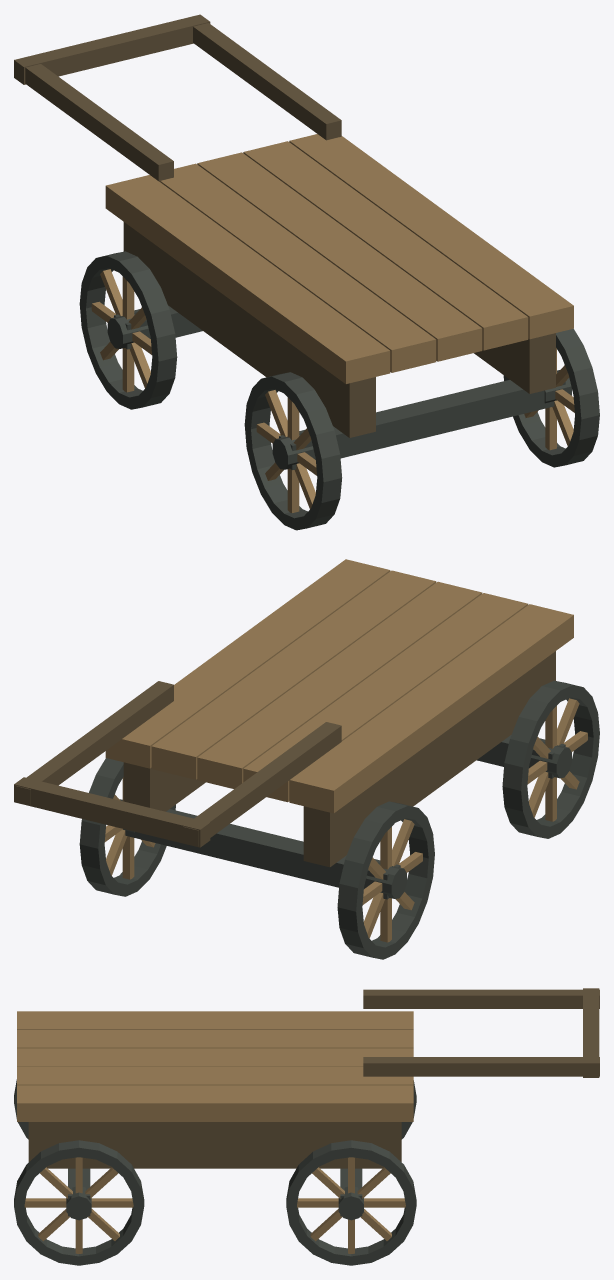
Rendered from package-cart.glb.
3 views of the same model, one above another, from view 1: azimuth 30°, elevation 25°; view 2: azimuth 150°, elevation 25°; view 3: azimuth 270°, elevation 25° (orthographic). The views are drawn at different scales.
Parts seen in each view (by area): view 1: package-cart-body-timber.001, package-cart-body-timber-dark.001, package-wheel-iron.004, package-wheel-iron.005, package-cart-body-iron.001, package-wheel-iron.007, package-wheel-timber.004, package-wheel-timber.005, package-wheel-timber.007; view 2: package-cart-body-timber.001, package-cart-body-timber-dark.001, package-wheel-iron.004, package-wheel-iron.005, package-cart-body-iron.001, package-wheel-iron.006, package-wheel-timber.005, package-wheel-timber.004, package-wheel-timber.006; view 3: package-cart-body-timber.001, package-cart-body-timber-dark.001, package-wheel-iron.007, package-wheel-iron.006, package-wheel-timber.007, package-wheel-timber.006, package-cart-body-iron.001.
Boxes of the visible parts, <box> form: package-cart-body-timber.001: <box>105,134,573,383</box>; package-cart-body-timber-dark.001: <box>14,14,555,437</box>; package-wheel-iron.004: <box>79,251,177,409</box>; package-wheel-iron.005: <box>244,372,342,530</box>; package-cart-body-iron.001: <box>114,305,565,470</box>; package-wheel-iron.007: <box>503,328,599,467</box>; package-wheel-timber.004: <box>91,269,151,392</box>; package-wheel-timber.005: <box>256,390,316,512</box>; package-wheel-timber.007: <box>524,348,574,450</box>; package-cart-body-timber.001: <box>105,559,573,813</box>; package-cart-body-timber-dark.001: <box>14,651,555,867</box>; package-wheel-iron.004: <box>337,801,434,959</box>; package-wheel-iron.005: <box>502,680,599,838</box>; package-cart-body-iron.001: <box>125,735,565,899</box>; package-wheel-iron.006: <box>79,758,175,896</box>; package-wheel-timber.005: <box>527,698,587,821</box>; package-wheel-timber.004: <box>362,819,422,942</box>; package-wheel-timber.006: <box>104,777,155,879</box>; package-cart-body-timber.001: <box>17,1011,413,1121</box>; package-cart-body-timber-dark.001: <box>28,988,599,1168</box>; package-wheel-iron.007: <box>14,1140,144,1265</box>; package-wheel-iron.006: <box>286,1140,416,1265</box>; package-wheel-timber.007: <box>24,1157,133,1253</box>; package-wheel-timber.006: <box>297,1157,405,1253</box>; package-cart-body-iron.001: <box>68,1168,362,1216</box>.
Size of the model in its own units: 0.915 by 0.6875 by 1.98.
